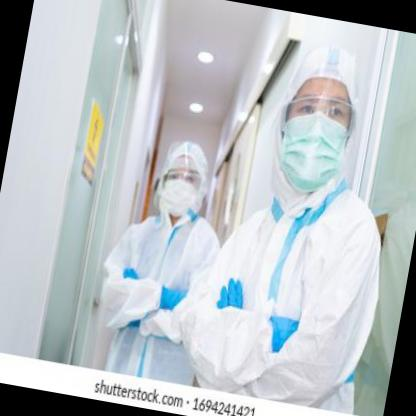Gloves: (266, 313, 300, 354), (218, 274, 247, 309), (160, 284, 190, 310), (124, 268, 140, 282)
